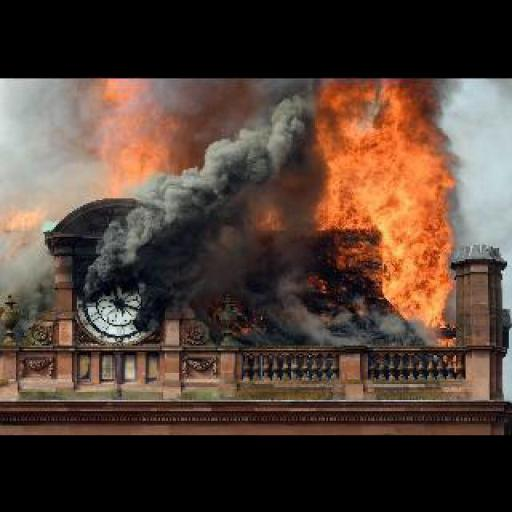smoke: (72, 179, 322, 346), (312, 77, 480, 302), (173, 77, 315, 192), (243, 296, 442, 352), (98, 77, 172, 192), (3, 205, 40, 238)
